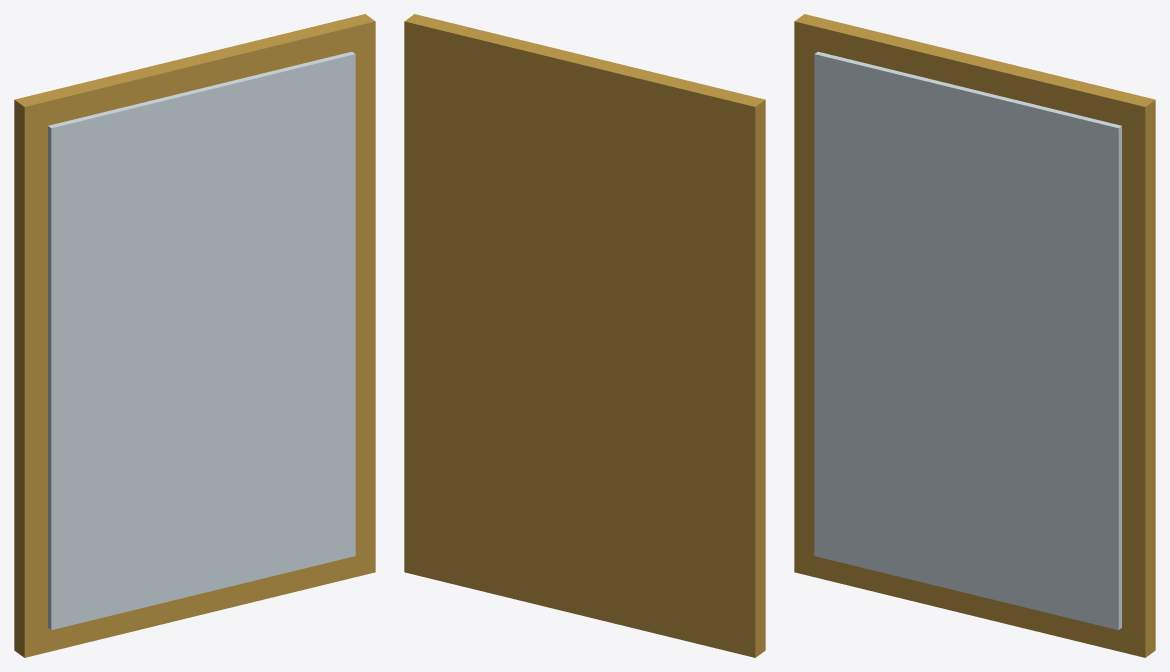
Rendered from mirror.glb.
3 renders of one model, left to right at view 1: azimuth 30°, elevation 25°; view 2: azimuth 150°, elevation 25°; view 3: azimuth 330°, elevation 25°, orthographic.
Parts seen in each view (by area): view 1: mirror; view 2: mirror; view 3: mirror.
Part boxes in pixels (bbox=[...]): mirror: bbox=[14, 14, 375, 657]; mirror: bbox=[404, 14, 765, 657]; mirror: bbox=[794, 14, 1155, 657].
Size of the model in its own units: 0.6 by 0.9 by 0.04.
